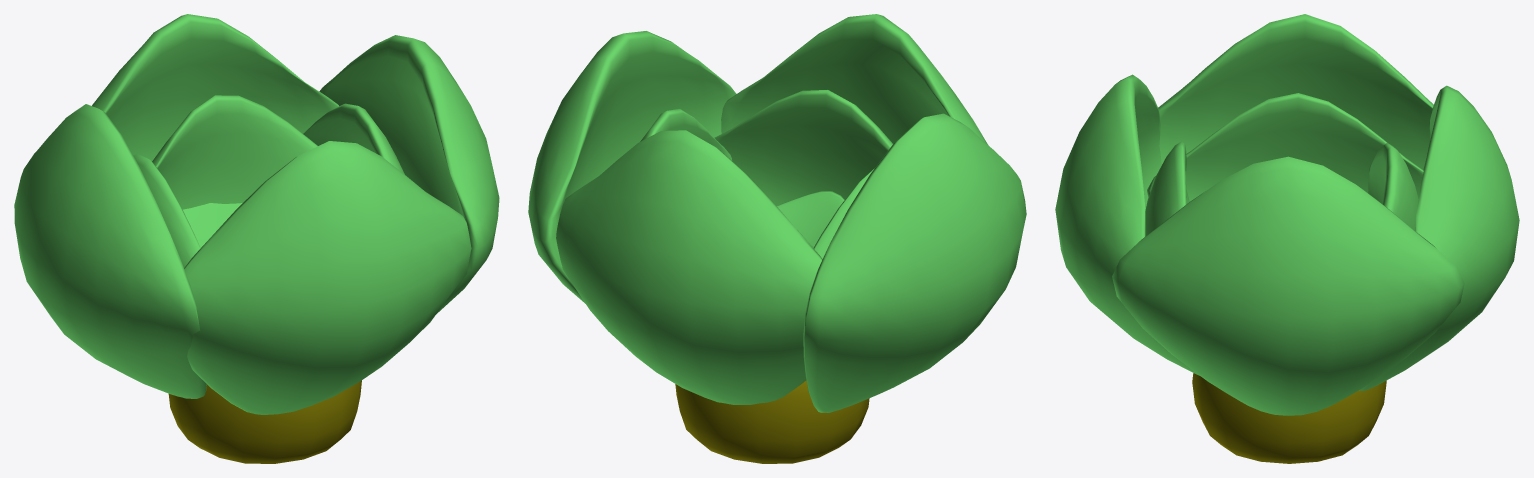
The model's file is lettuce.fbx.
3 renders of one model, left to right at view 1: azimuth 30°, elevation 25°; view 2: azimuth 150°, elevation 25°; view 3: azimuth 270°, elevation 25°, orthographic. The views are drawn at different scales.
Parts seen in each view (by area): view 1: leaf11, leaf8, leaf9, leaf10, leaf, stem, leaf6, leaf5, leaf1; view 2: leaf10, leaf8, leaf9, leaf11, leaf7, stem, leaf2, leaf6, leaf5; view 3: leaf9, leaf8, leaf11, leaf10, leaf5, stem, leaf, leaf7.
Part boxes in pixels (<box>): leaf11: <box>184,141,471,414</box>; leaf8: <box>14,104,206,398</box>; leaf9: <box>319,35,499,314</box>; leaf10: <box>92,14,338,161</box>; leaf: <box>152,95,317,209</box>; stem: <box>168,380,361,463</box>; leaf6: <box>303,103,404,174</box>; leaf5: <box>133,154,200,267</box>; leaf1: <box>183,203,242,247</box>; leaf10: <box>556,130,822,404</box>; leaf8: <box>803,113,1026,412</box>; leaf9: <box>528,31,736,303</box>; leaf11: <box>721,14,988,145</box>; leaf7: <box>714,90,892,205</box>; stem: <box>675,380,869,463</box>; leaf2: <box>777,191,844,247</box>; leaf6: <box>640,109,732,160</box>; leaf5: <box>813,168,874,258</box>; leaf9: <box>1112,156,1464,415</box>; leaf8: <box>1158,14,1433,169</box>; leaf11: <box>1055,74,1199,375</box>; leaf10: <box>1359,85,1519,390</box>; leaf5: <box>1147,93,1423,201</box>; stem: <box>1192,373,1386,463</box>; leaf: <box>1368,142,1418,230</box>; leaf7: <box>1145,141,1189,236</box>.
Bounding box in the file's own units: 55.31 × 44.36 × 52.74.
